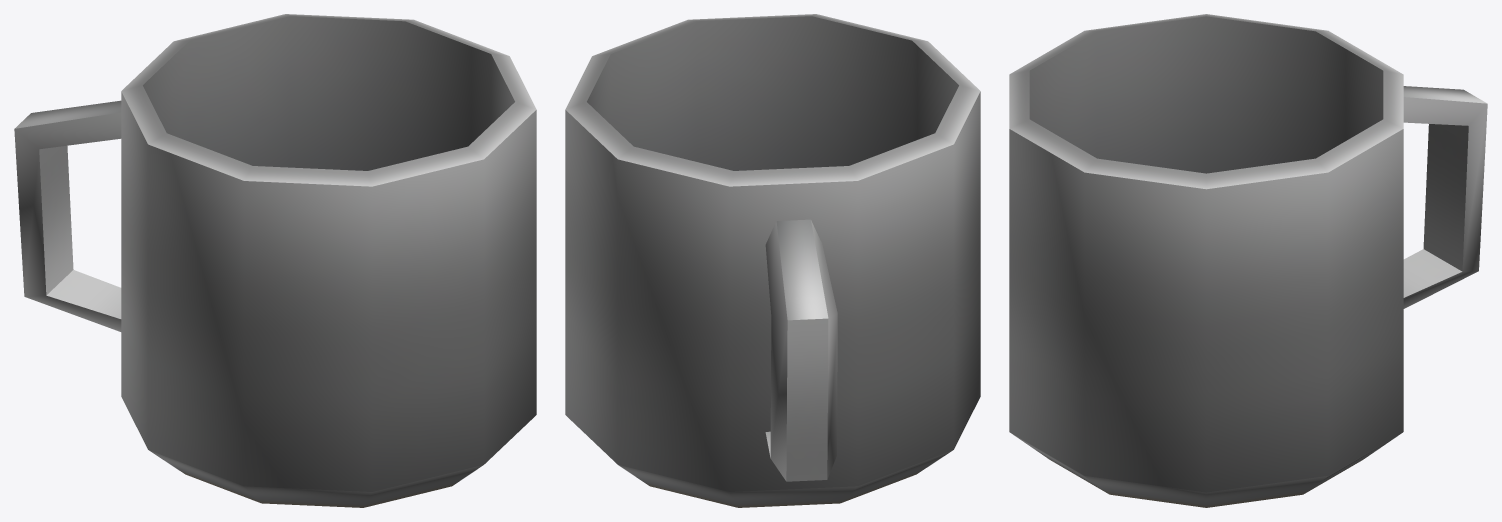
The model's file is Tea_Cup_1A.fbx.
3 renders of one model, left to right at view 1: azimuth 30°, elevation 25°; view 2: azimuth 150°, elevation 25°; view 3: azimuth 270°, elevation 25°, orthographic.
Parts seen in each view (by area): view 1: Tea_Cup_1A; view 2: Tea_Cup_1A; view 3: Tea_Cup_1A.
Part boxes in pixels (<box>): Tea_Cup_1A: <box>14,14,536,507</box>; Tea_Cup_1A: <box>565,14,980,507</box>; Tea_Cup_1A: <box>1009,14,1487,507</box>.
Bounding box in the file's own units: 15.1 × 13.64 × 17.23.
